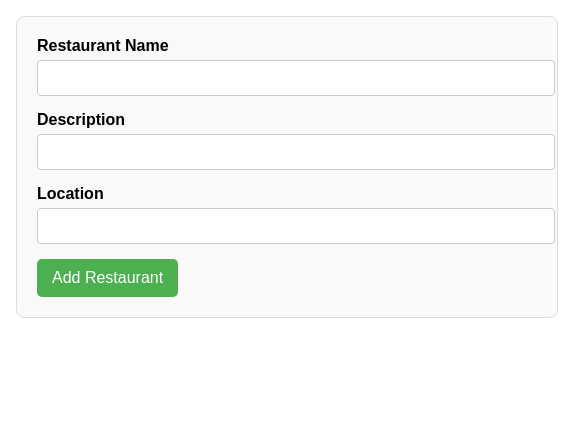
Test: shows error when restaurant name is too short
Type "A" into the field labelled "Restaurant Name" at (296, 78), box 37,60 -> 555,96
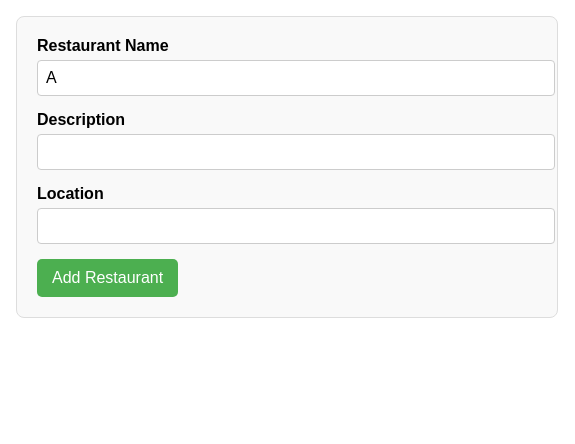
Click the button "Add Restaurant" at (108, 278), box 37,259 -> 178,297
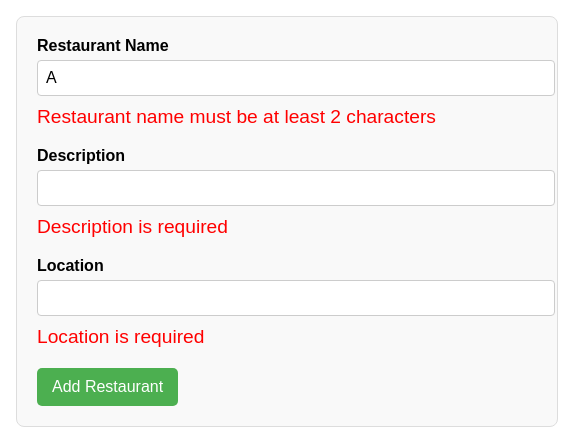
Expected: the text "Restaurant name must be at least 2 characters" is shown, 37,106 -> 436,127
